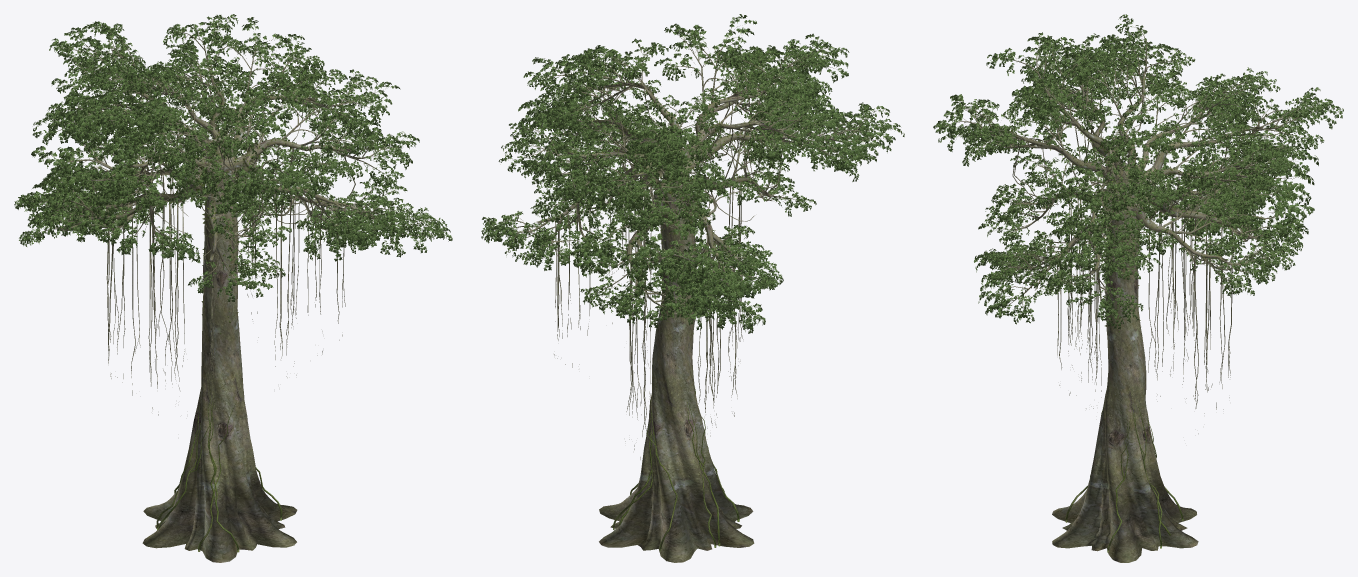
Rendered from kapok_ceiba.glb.
3 renders of one model, left to right at view 1: azimuth 30°, elevation 25°; view 2: azimuth 150°, elevation 25°; view 3: azimuth 270°, elevation 25°, orthographic. The views are drawn at different scales.
Parts seen in each view (by area): view 1: Kapok_High_KapokLeaf 1_0, Kapok_High_KapokBark_0, Kapok_High_KapokBranch_0; view 2: Kapok_High_KapokLeaf 1_0, Kapok_High_KapokBark_0, Kapok_High_KapokBranch_0; view 3: Kapok_High_KapokLeaf 1_0, Kapok_High_KapokBark_0, Kapok_High_KapokBranch_0.
Part boxes in pixels (x1=…): Kapok_High_KapokLeaf 1_0: x1=14, y1=14, x2=452, y2=301; Kapok_High_KapokBark_0: x1=24, y1=21, x2=433, y2=562; Kapok_High_KapokBranch_0: x1=95, y1=69, x2=355, y2=552; Kapok_High_KapokLeaf 1_0: x1=481, y1=14, x2=904, y2=333; Kapok_High_KapokBark_0: x1=496, y1=26, x2=885, y2=562; Kapok_High_KapokBranch_0: x1=541, y1=80, x2=808, y2=551; Kapok_High_KapokLeaf 1_0: x1=933, y1=14, x2=1343, y2=328; Kapok_High_KapokBark_0: x1=945, y1=26, x2=1326, y2=562; Kapok_High_KapokBranch_0: x1=1010, y1=71, x2=1256, y2=552.
Bounding box in the file's own units: 77.22 × 95.46 × 78.15.
Materials: 4 (4 with a texture image).
